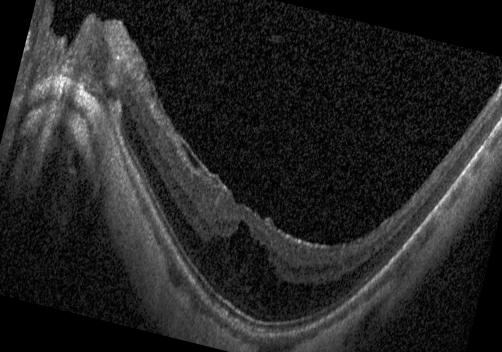subretinal_fluid: (199, 222, 278, 318)
vitreomacular_traction: (180, 137, 215, 178), (157, 98, 165, 113)
